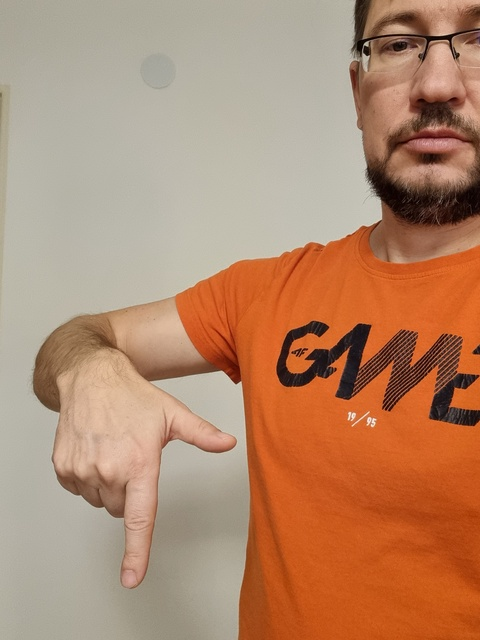GestDown: (54, 401, 236, 587)
